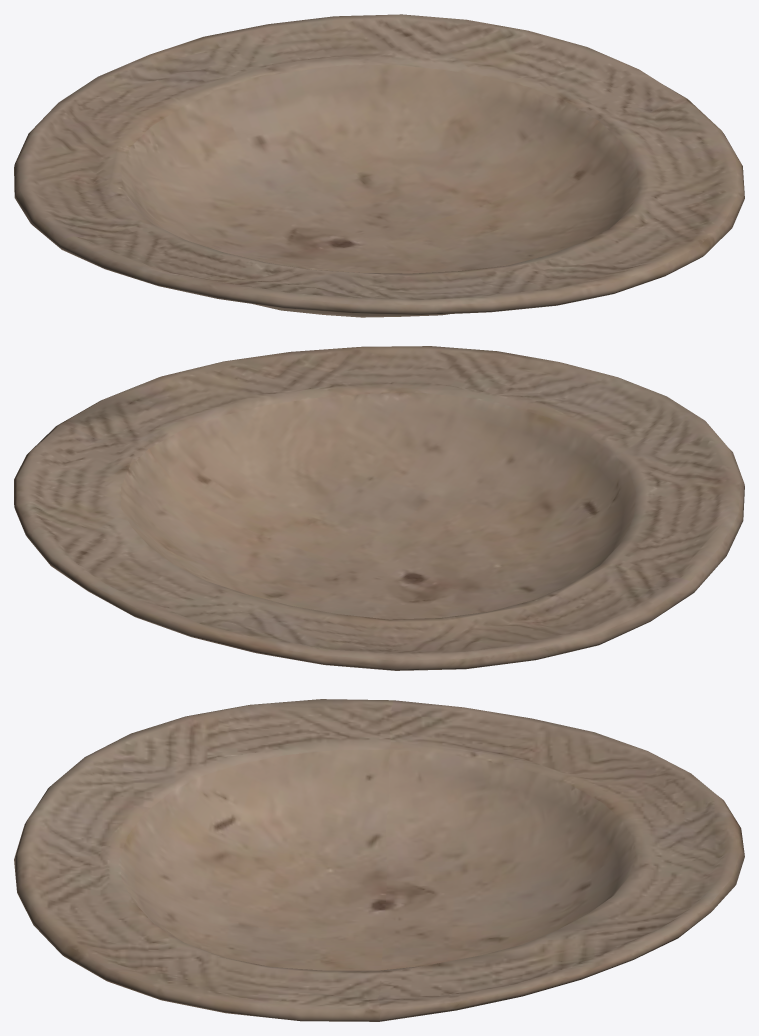
Rendered from carved_wooden_plate.glb.
3 renders of one model, top to bottom at view 1: azimuth 30°, elevation 25°; view 2: azimuth 150°, elevation 25°; view 3: azimuth 270°, elevation 25°, orthographic. The views are drawn at different scales.
Parts seen in each view (by area): view 1: carved_wooden_plate; view 2: carved_wooden_plate; view 3: carved_wooden_plate.
Part boxes in pixels (left/top/right/bottom): carved_wooden_plate: left=14, top=14, right=744, bottom=317; carved_wooden_plate: left=14, top=346, right=744, bottom=670; carved_wooden_plate: left=14, top=699, right=744, bottom=1021.
Bounding box in the file's own units: 0.2718 × 0.0377 × 0.2688.
Materials: 1 (1 with a texture image).
